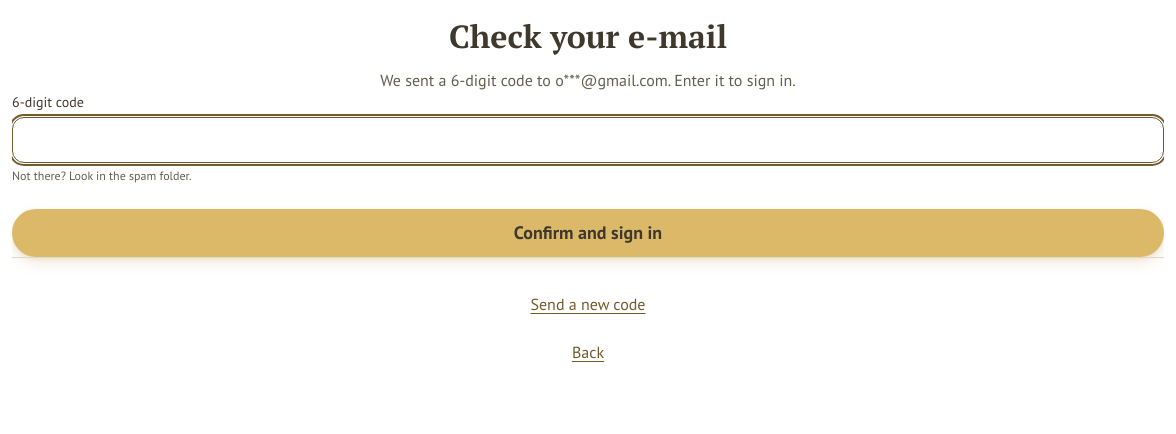
Test: EmailCodeForm › shows why a new code could not be sent
Click the button "Send a new code" at (588, 304), box x1=522 y1=282 x2=654 y2=326
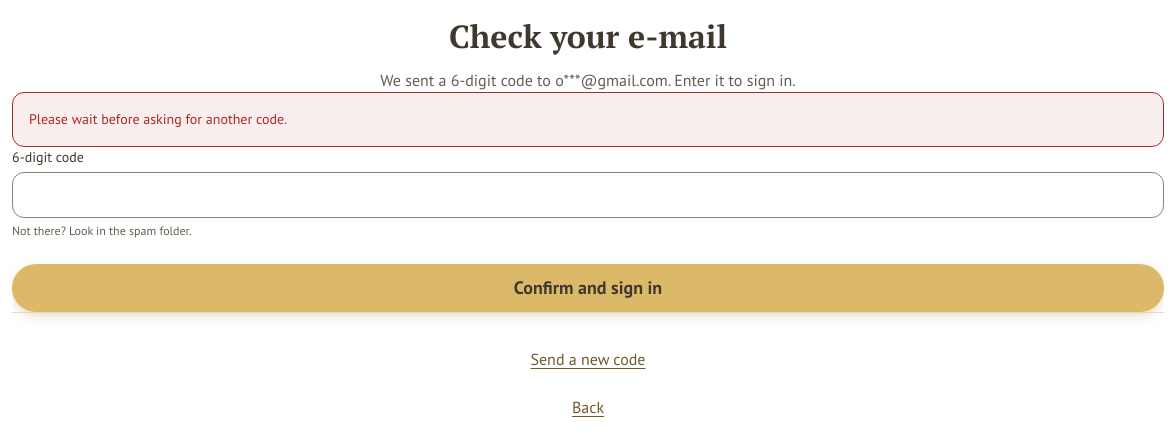
Now the message reads "Please wait before asking for another code.", box x1=29 y1=110 x2=287 y2=128
